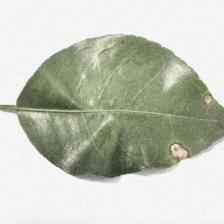canker: (162, 83, 219, 169)
